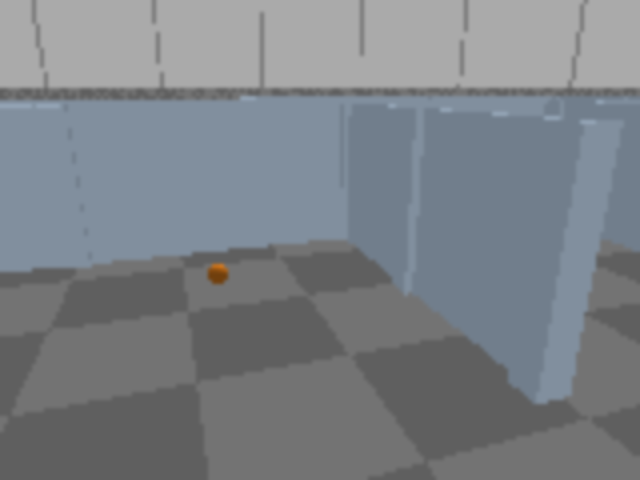puck: (205, 261, 231, 287)
